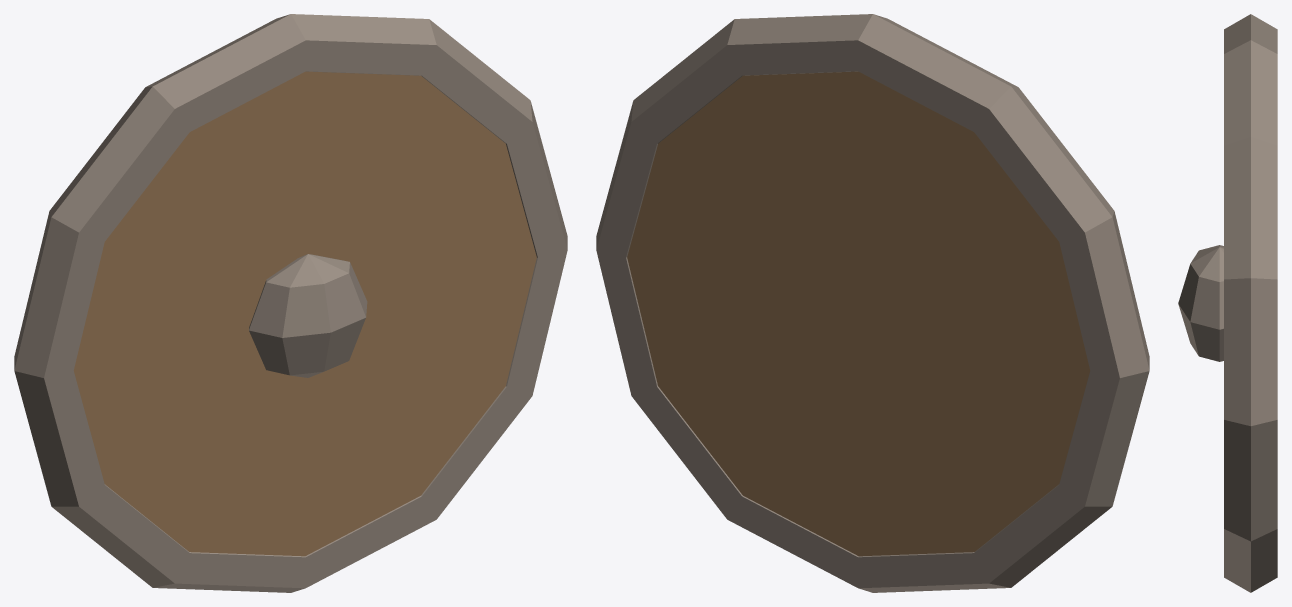
The model's file is a_shield.glb.
3 renders of one model, left to right at view 1: azimuth 30°, elevation 25°; view 2: azimuth 150°, elevation 25°; view 3: azimuth 270°, elevation 25°, orthographic. The views are drawn at different scales.
Parts seen in each view (by area): view 1: a_shield; view 2: a_shield; view 3: a_shield.
Part boxes in pixels (box(x1,y1,x2,y2)): a_shield: box(14, 14, 567, 592); a_shield: box(596, 14, 1149, 592); a_shield: box(1178, 14, 1277, 592).
Size of the model in its own units: 0.56 by 0.56 by 0.096.
